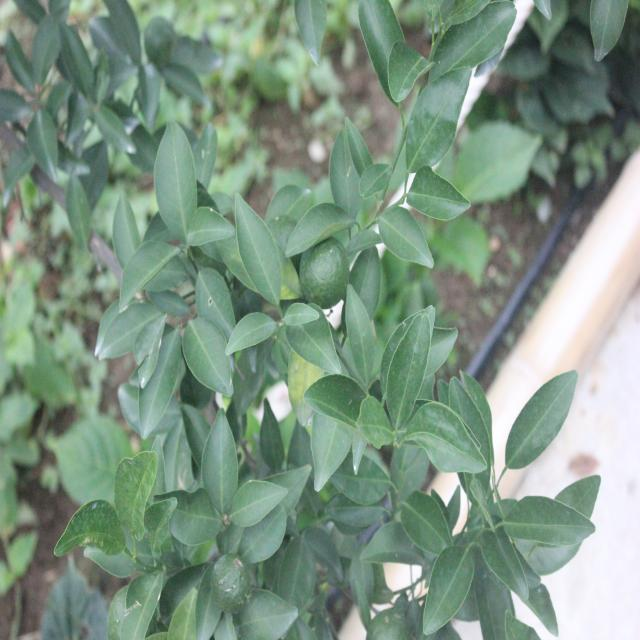canker: (499, 369, 578, 472), (402, 69, 476, 174), (157, 119, 200, 264), (232, 193, 287, 301), (387, 308, 437, 417), (412, 404, 478, 479), (503, 496, 598, 546), (418, 547, 474, 630), (96, 304, 170, 364), (184, 315, 232, 402), (200, 412, 237, 512), (382, 209, 435, 272), (304, 371, 368, 423), (229, 476, 285, 526)
